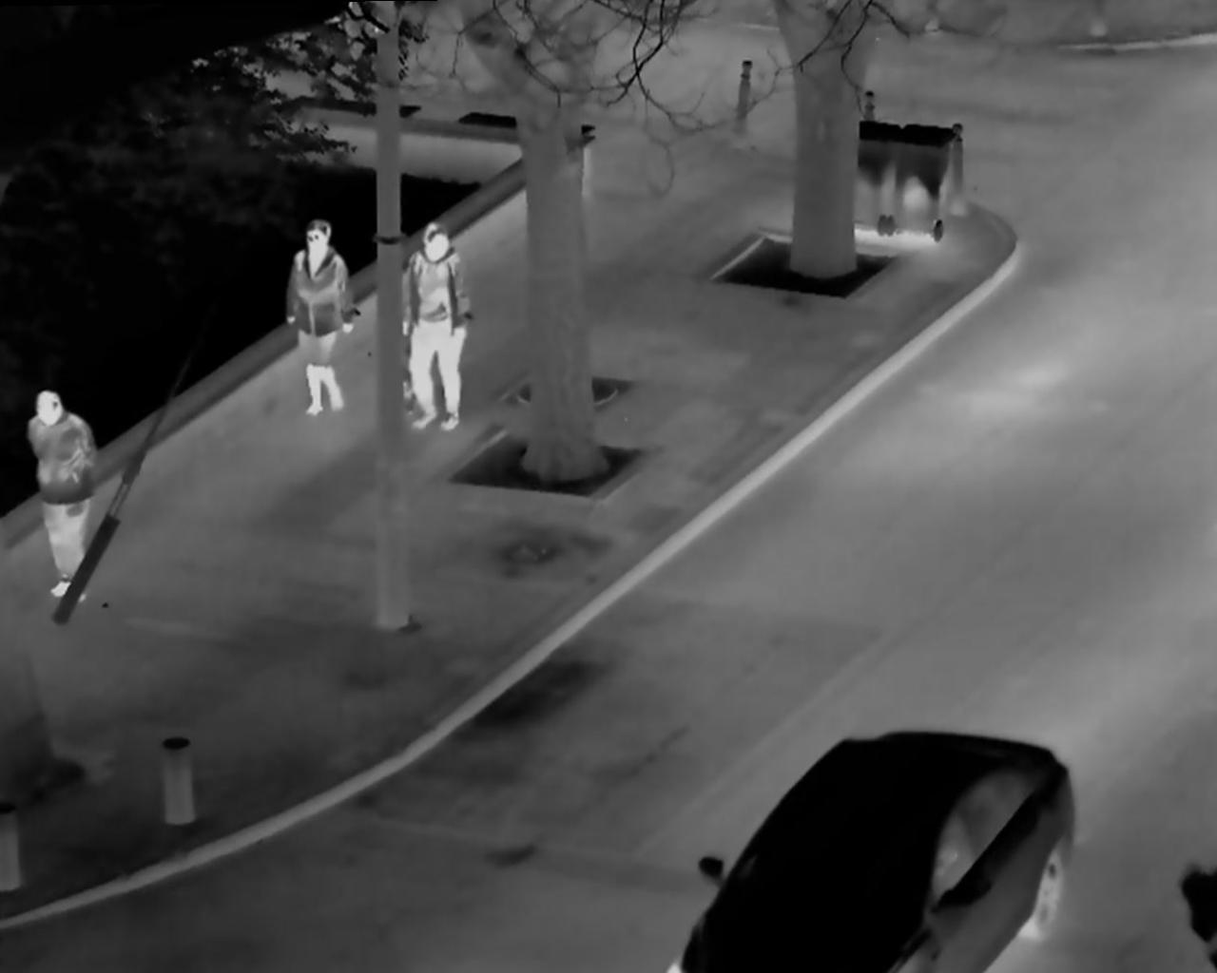person: (18, 384, 106, 614), (278, 205, 356, 424), (399, 217, 472, 433)
